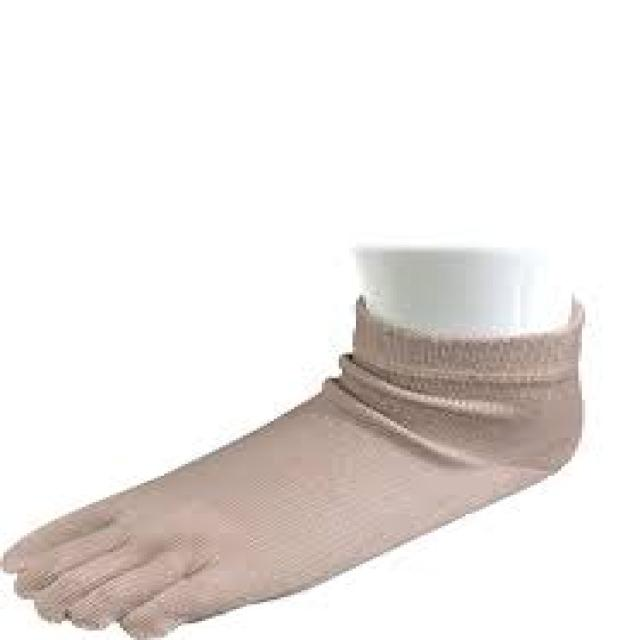sock: (0, 238, 585, 638)
